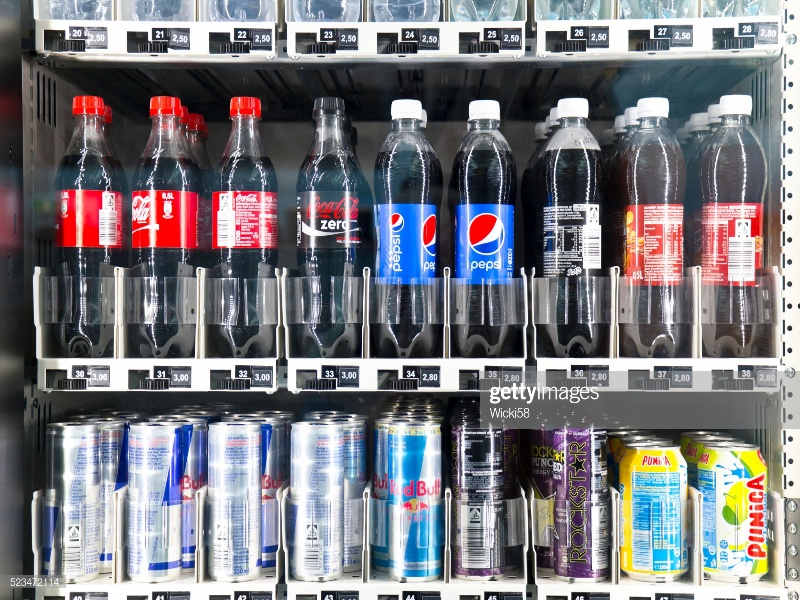coke-bottle-700ml: (539, 100, 619, 358), (127, 94, 206, 354), (290, 94, 368, 352), (211, 86, 287, 348), (55, 94, 123, 354)
